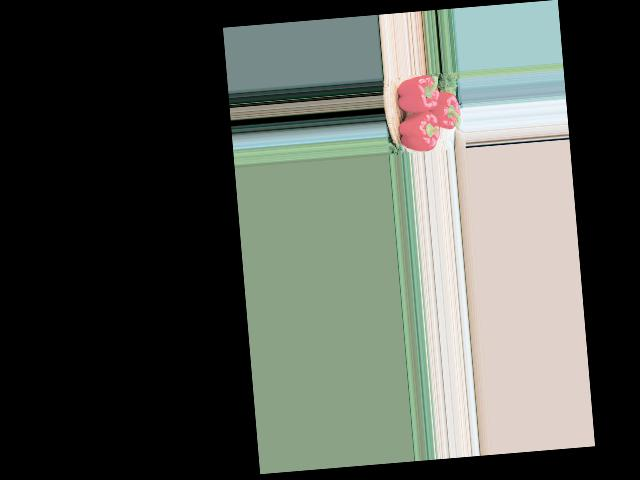bell_pepper: (390, 74, 441, 119)
